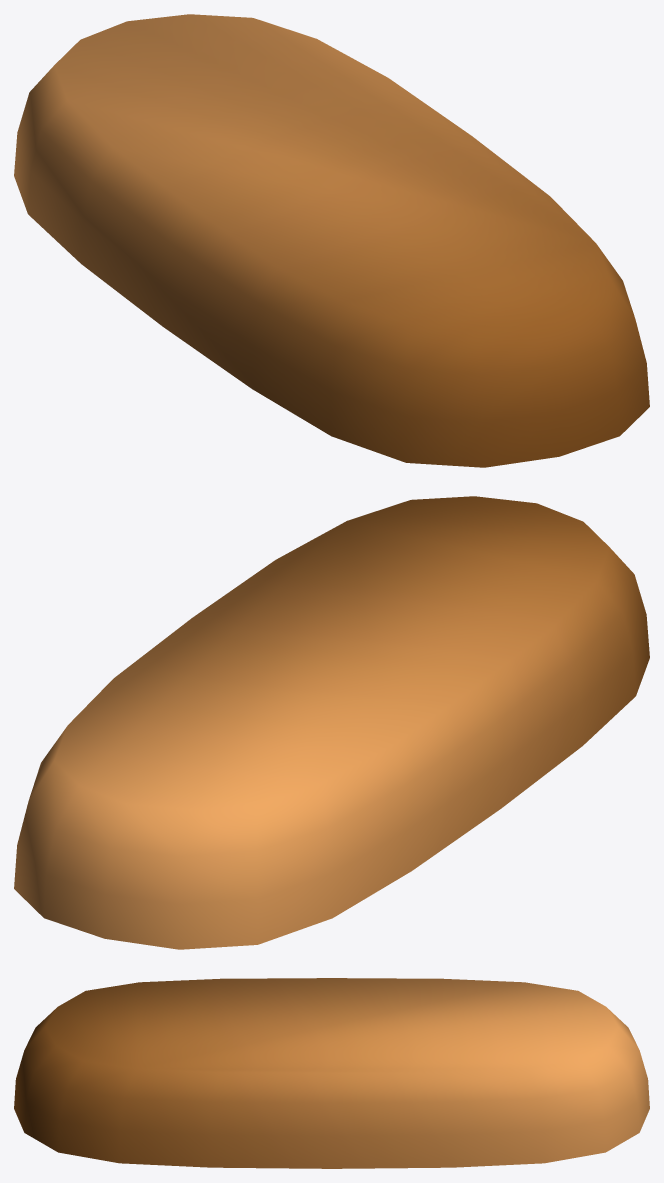
Rendered from Bread_1 Tall Half_2.fbx.
The picture shows the model from 3 angles, top to bottom: view 1: azimuth 30°, elevation 25°; view 2: azimuth 150°, elevation 25°; view 3: azimuth 270°, elevation 25°; orthographic projection. The views are drawn at different scales.
Parts seen in each view (by area): view 1: Bread_1 Tall Half_2; view 2: Bread_1 Tall Half_2; view 3: Bread_1 Tall Half_2.
Boxes of the visible parts, x1,y1,x2,y2 form: Bread_1 Tall Half_2: [14, 14, 649, 467]; Bread_1 Tall Half_2: [14, 496, 649, 949]; Bread_1 Tall Half_2: [14, 978, 649, 1168].
Bounding box in the file's own units: 0.089 × 0.0311 × 0.2078.
1 material, 1 textured.
